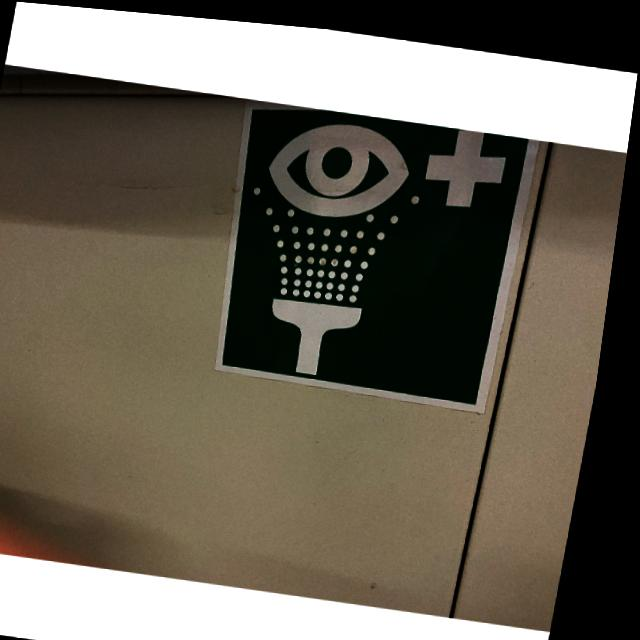eye shower: (202, 93, 541, 400)
